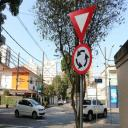Rotatoria: (72, 44, 93, 74)
preferencia: (68, 6, 97, 44)
